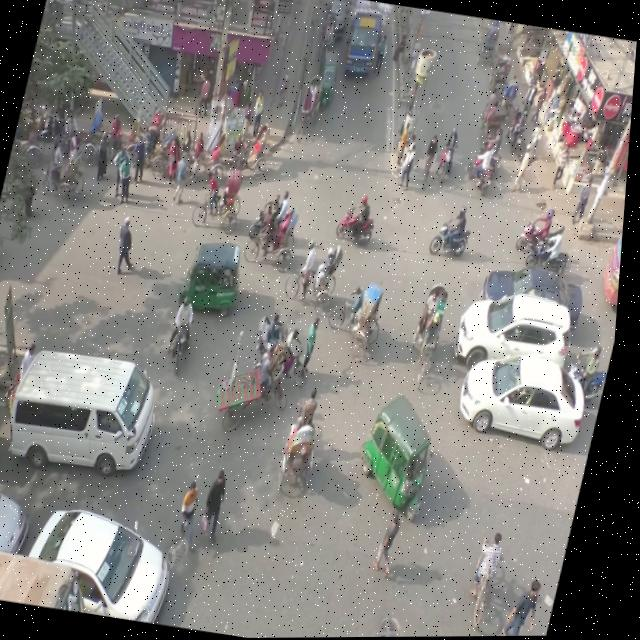cng: (348, 381, 456, 531), (158, 235, 256, 341), (307, 41, 346, 130), (0, 361, 22, 482)
rikshaw: (243, 300, 331, 401), (277, 229, 360, 336), (273, 379, 334, 509), (399, 272, 459, 403), (25, 118, 99, 214), (183, 158, 256, 246), (240, 197, 307, 271), (123, 120, 187, 194), (328, 282, 390, 358), (56, 94, 115, 168), (177, 127, 233, 203), (225, 117, 276, 191), (491, 70, 529, 136), (487, 41, 521, 114), (291, 74, 325, 145), (467, 19, 510, 74)
